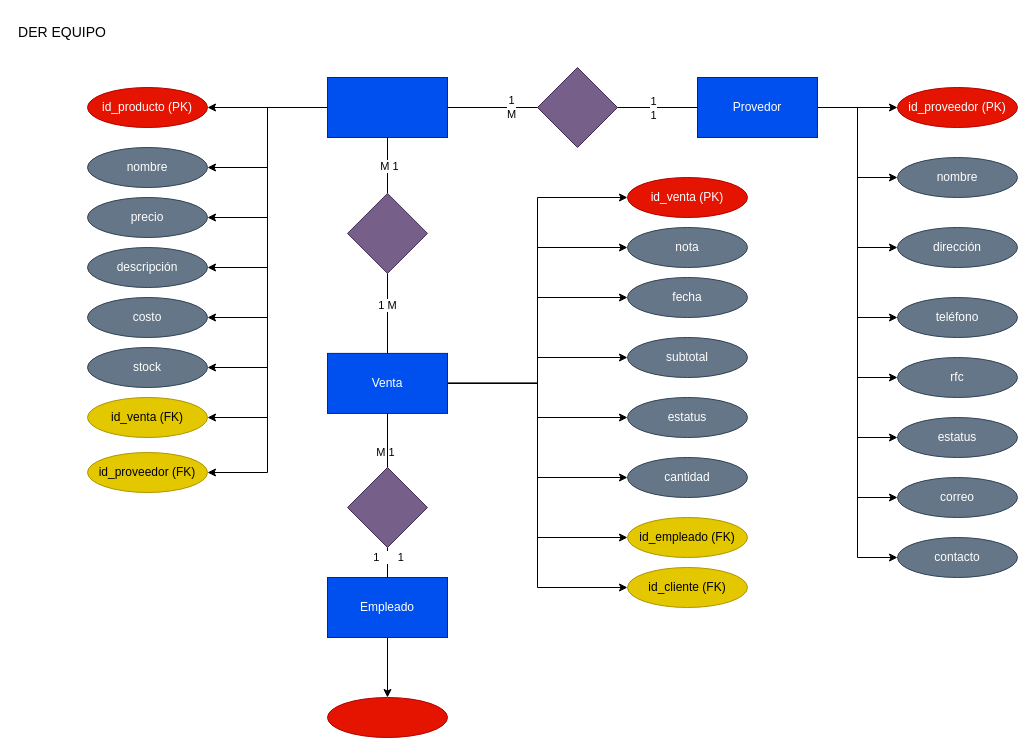
This 1035x755 diagram has some shape labels left out. Here are the shapes that lost their labels. From the top down, the centre of each, then its label:
point (387, 107): Producto
point (577, 107): tiene M:1
point (387, 232): tiene M:N
point (387, 507): realiza 1:M
point (387, 717): id_empleado (PK)
